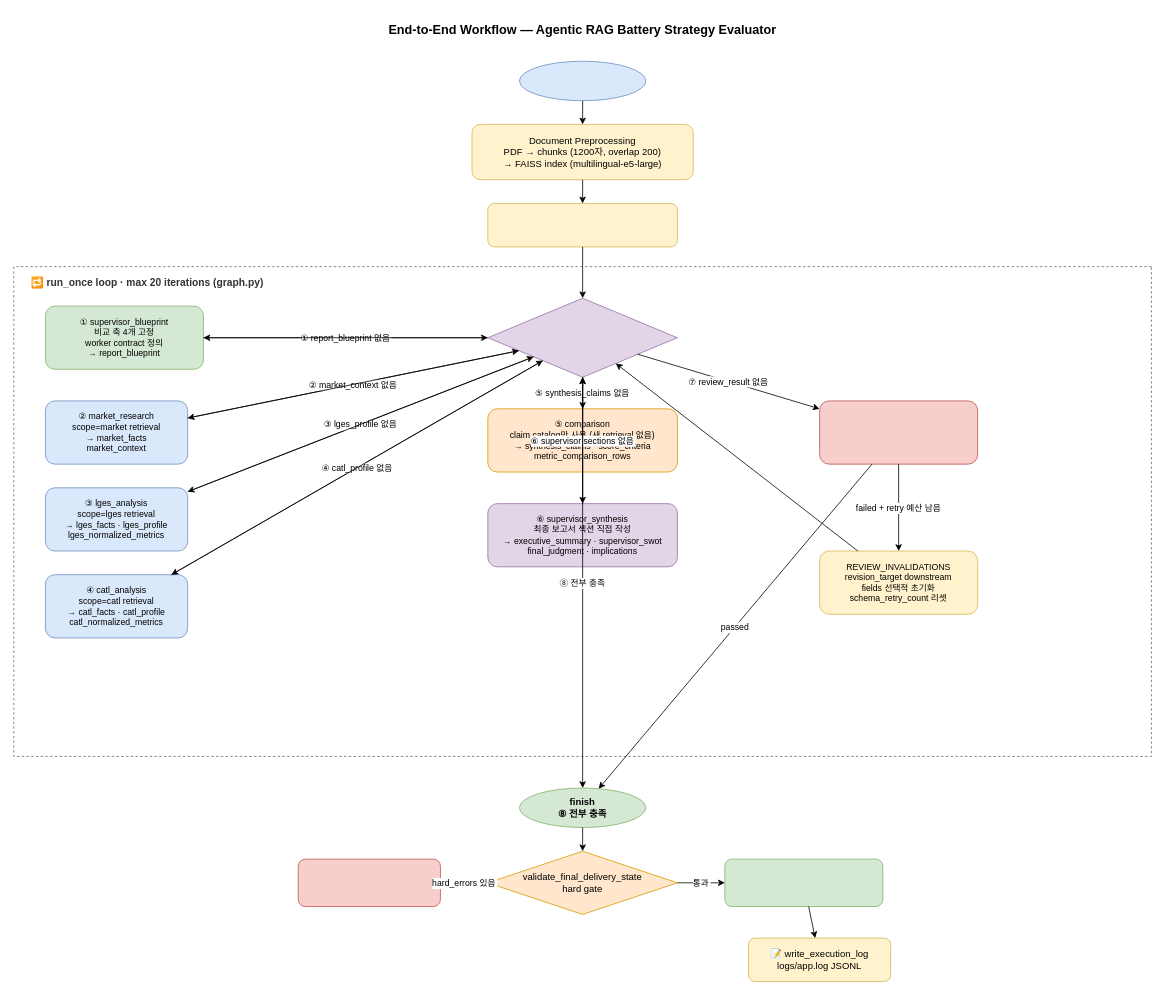
Some shapes in this 1165 by 995 pixel diagram are drawn without their labels. Each missing label, with the centre of its shape:
"app.py start" belongs at [582,80].
"build_initial_state RetryBudget · AgentState 초기화" belongs at [582,225].
"⑦ review 근거 정합성 · 비교 축 일관성 필수 섹션 감리 → review_result" belongs at [898,432].
"✅ assemble + export .md / .html / .pdf" belongs at [803,882].
"❌ export 차단 status = failed" belongs at [368,882].
"🧠 supervisor_agent AgentState 전체 검사 → 우선순위 라우팅 (agents/supervisor.py)" belongs at [582,337].
